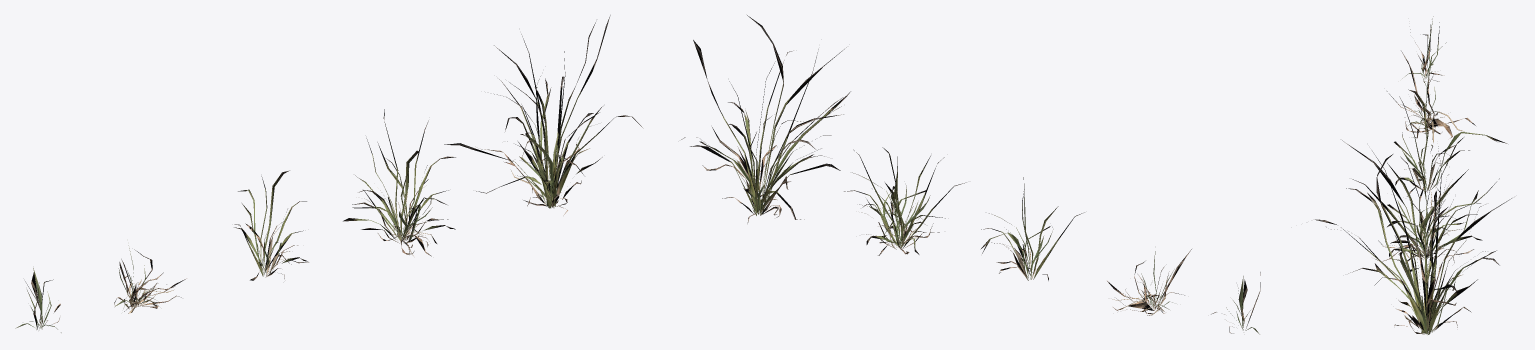
Rendered from assets__ph__grass_medium_02.glb.
3 views of the same model, side by side, from view 1: azimuth 30°, elevation 25°; view 2: azimuth 150°, elevation 25°; view 3: azimuth 270°, elevation 25° (orthographic). The views are drawn at different scales.
Visible parts, largest first — view 1: grass_medium_02_a; view 2: grass_medium_02_a; view 3: grass_medium_02_a.
Part boxes in pixels (bbox=[...]): grass_medium_02_a: bbox=[15, 15, 643, 332]; grass_medium_02_a: bbox=[681, 15, 1260, 334]; grass_medium_02_a: bbox=[1315, 16, 1511, 334].
Bounding box in the file's own units: 1.3 × 0.4034 × 0.4318.
Materials: 1 (1 with a texture image).
